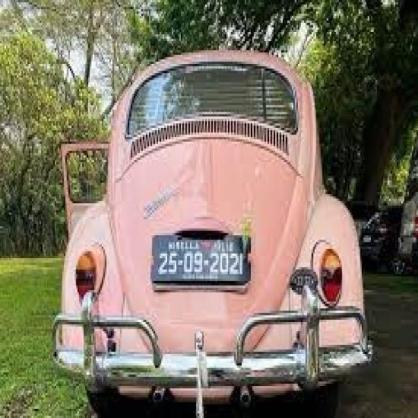car: (55, 51, 376, 403)
